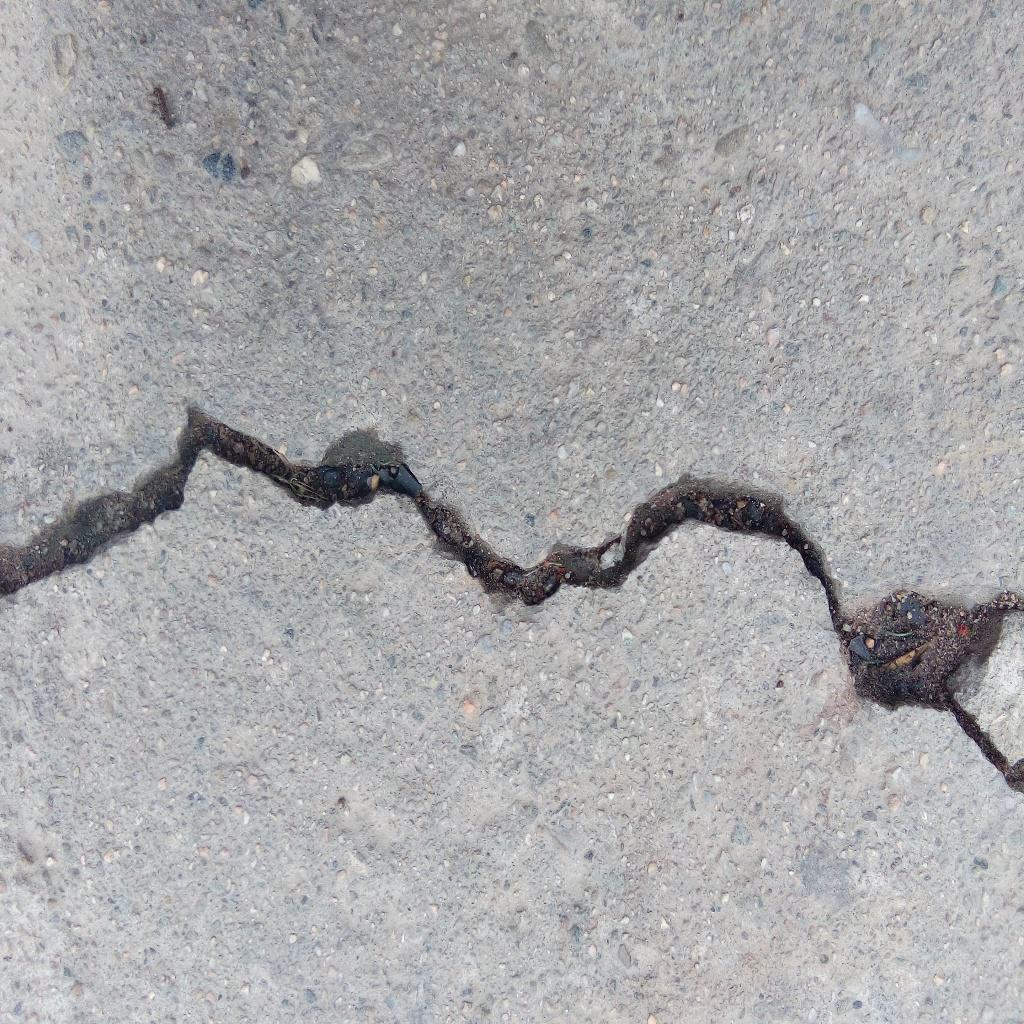Crack: (1, 399, 846, 640), (953, 701, 1024, 794)
Spalling: (846, 586, 1024, 711)
